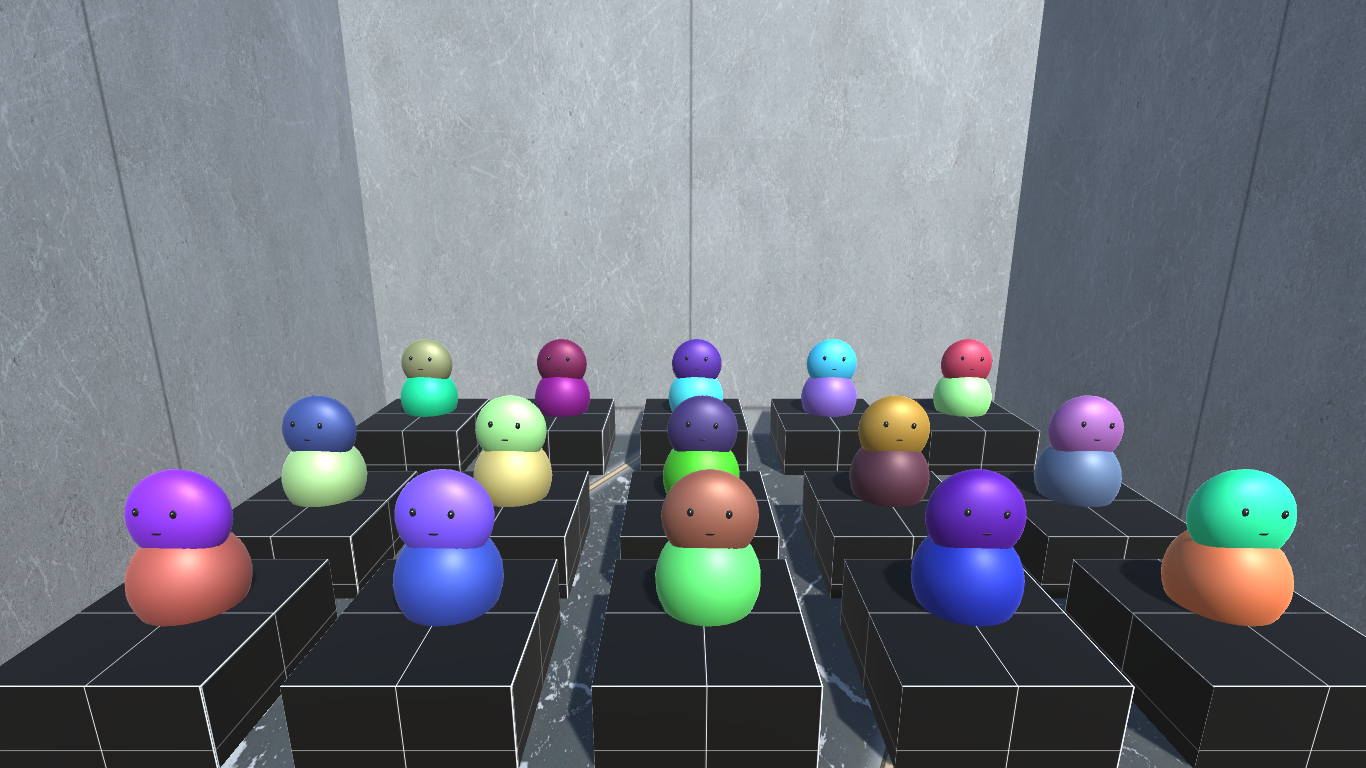blob_normal: (1181, 465, 1309, 557), (651, 464, 769, 558), (124, 463, 229, 551), (926, 466, 1028, 556), (390, 469, 492, 550), (1039, 388, 1128, 457), (469, 393, 553, 455), (851, 394, 931, 459), (661, 393, 744, 453), (278, 393, 354, 453), (397, 336, 453, 381), (670, 334, 722, 381), (531, 336, 589, 378), (940, 337, 996, 380), (805, 334, 858, 378)
